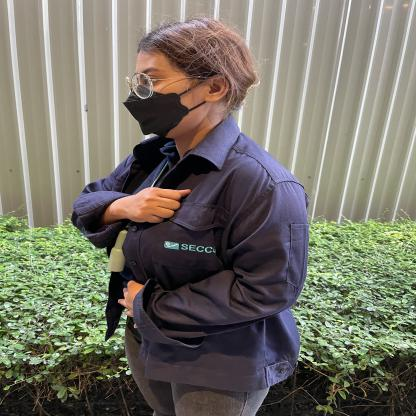Sadness: (42, 143, 198, 237)
